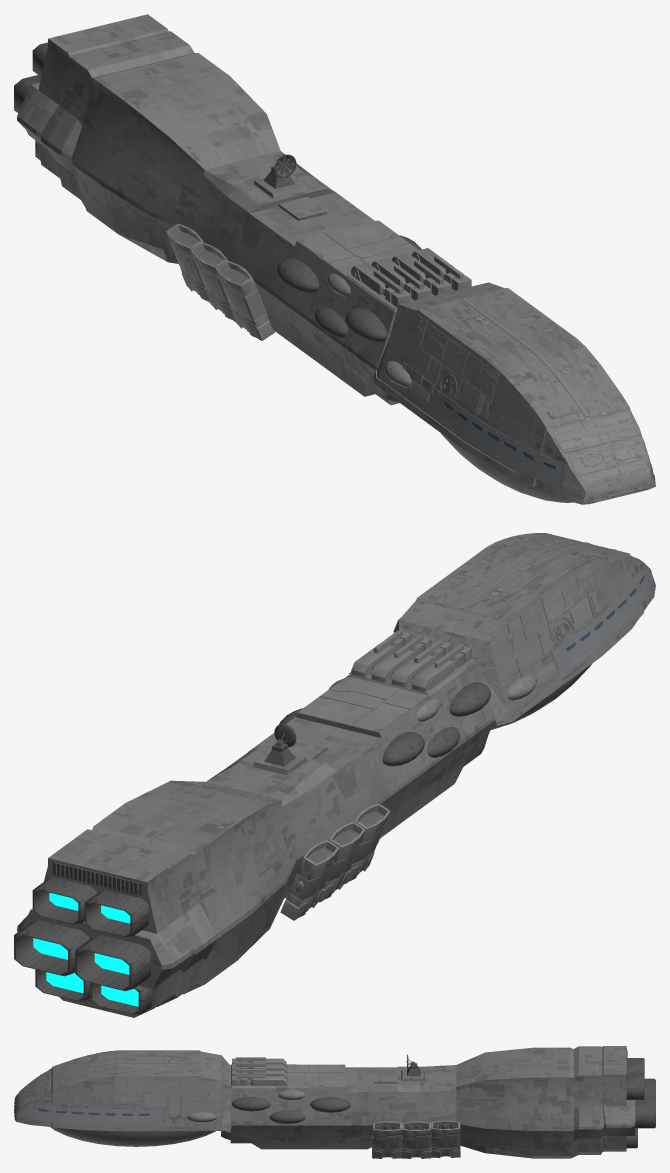
The model's file is sw_dreadnaught_cruiser.glb.
3 renders of one model, top to bottom at view 1: azimuth 30°, elevation 25°; view 2: azimuth 150°, elevation 25°; view 3: azimuth 270°, elevation 25°, orthographic. The views are drawn at different scales.
Parts seen in each view (by area): view 1: hull_mat_0, hull_mat_7, hull_mat_5, hull_mat_1, hull_mat_3; view 2: hull_mat_0, hull_mat_3, hull_mat_5, hull_mat_7, hull_mat_1, hull_mat_4, Object_53; view 3: hull_mat_0, hull_mat_7, hull_mat_5, hull_mat_3, hull_mat_1, Object_14.
Boxes of the visible parts, x1=… form: hull_mat_0: x1=17, y1=14, x2=655, y2=504; hull_mat_7: x1=302, y1=220, x2=646, y2=497; hull_mat_5: x1=166, y1=223, x2=647, y2=502; hull_mat_1: x1=275, y1=156, x2=653, y2=494; hull_mat_3: x1=14, y1=42, x2=421, y2=342; hull_mat_0: x1=17, y1=533, x2=655, y2=1017; hull_mat_3: x1=14, y1=682, x2=490, y2=1015; hull_mat_5: x1=280, y1=549, x2=617, y2=920; hull_mat_7: x1=298, y1=543, x2=610, y2=731; hull_mat_1: x1=277, y1=542, x2=653, y2=743; hull_mat_4: x1=33, y1=892, x2=138, y2=1006; Object_53: x1=52, y1=860, x2=142, y2=895; hull_mat_0: x1=14, y1=1046, x2=635, y2=1158; hull_mat_7: x1=14, y1=1059, x2=345, y2=1116; hull_mat_5: x1=14, y1=1057, x2=460, y2=1158; hull_mat_3: x1=232, y1=1054, x2=655, y2=1148; hull_mat_1: x1=19, y1=1061, x2=406, y2=1125; Object_14: x1=38, y1=1109, x2=149, y2=1115.
Size of the model in its own units: 0.3284 by 0.3496 by 1.98.
Materials: 10 (5 with a texture image).
